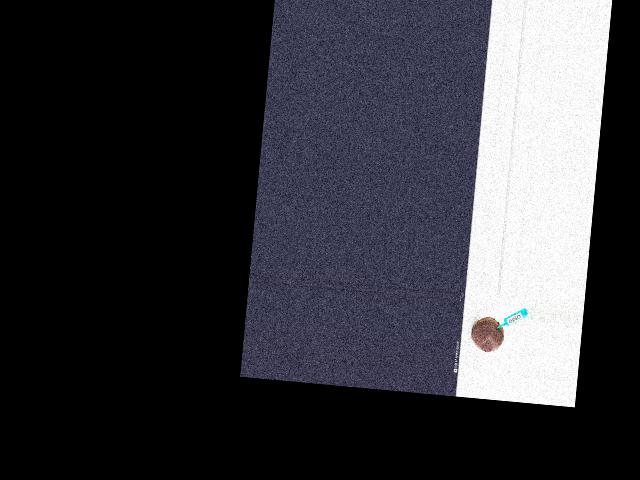beet: (469, 315, 505, 353)
